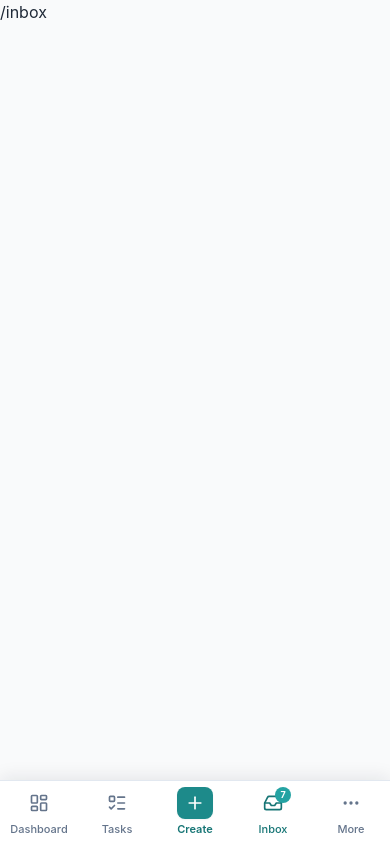
Scenario: MobileBottomNavigation › navigates to New Goal from the Create sheet and marks Create active
This screenshot has width=390, height=844.
Click the button "Create": (195,812) [156,781,234,843]
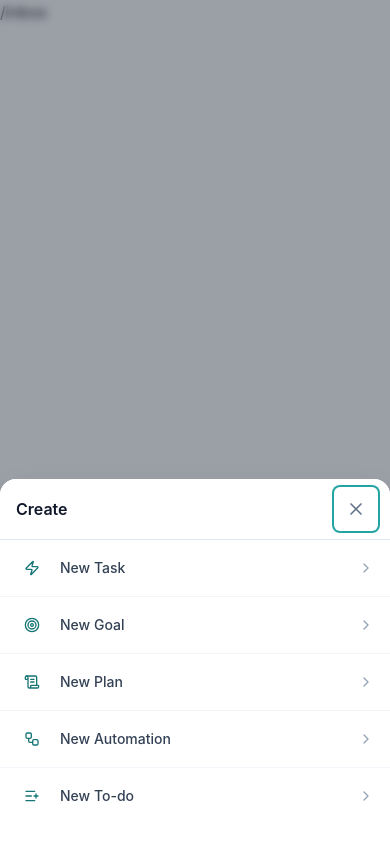
Click the link "New Goal": (92,624) [24,616,374,633]
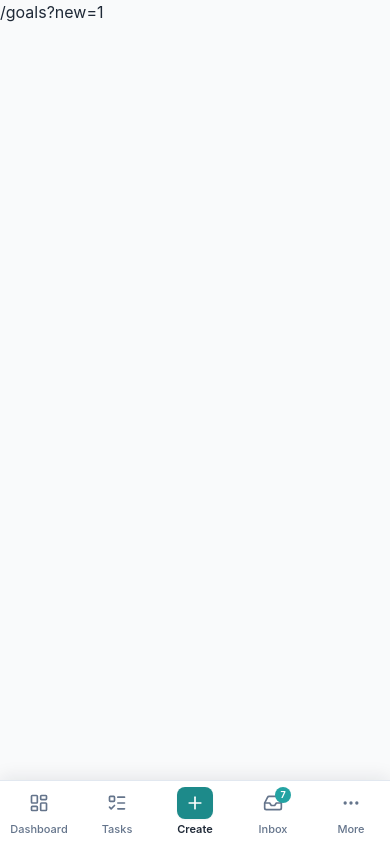
Expected: the text with test id "location" reads "/goals?new=1", [0,2,104,22]
Expected: the dialog is gone
